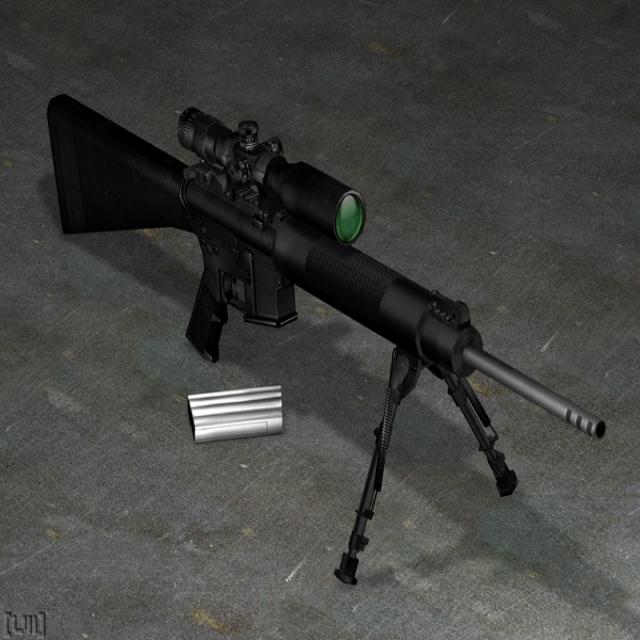Rifle: (46, 95, 607, 441)
